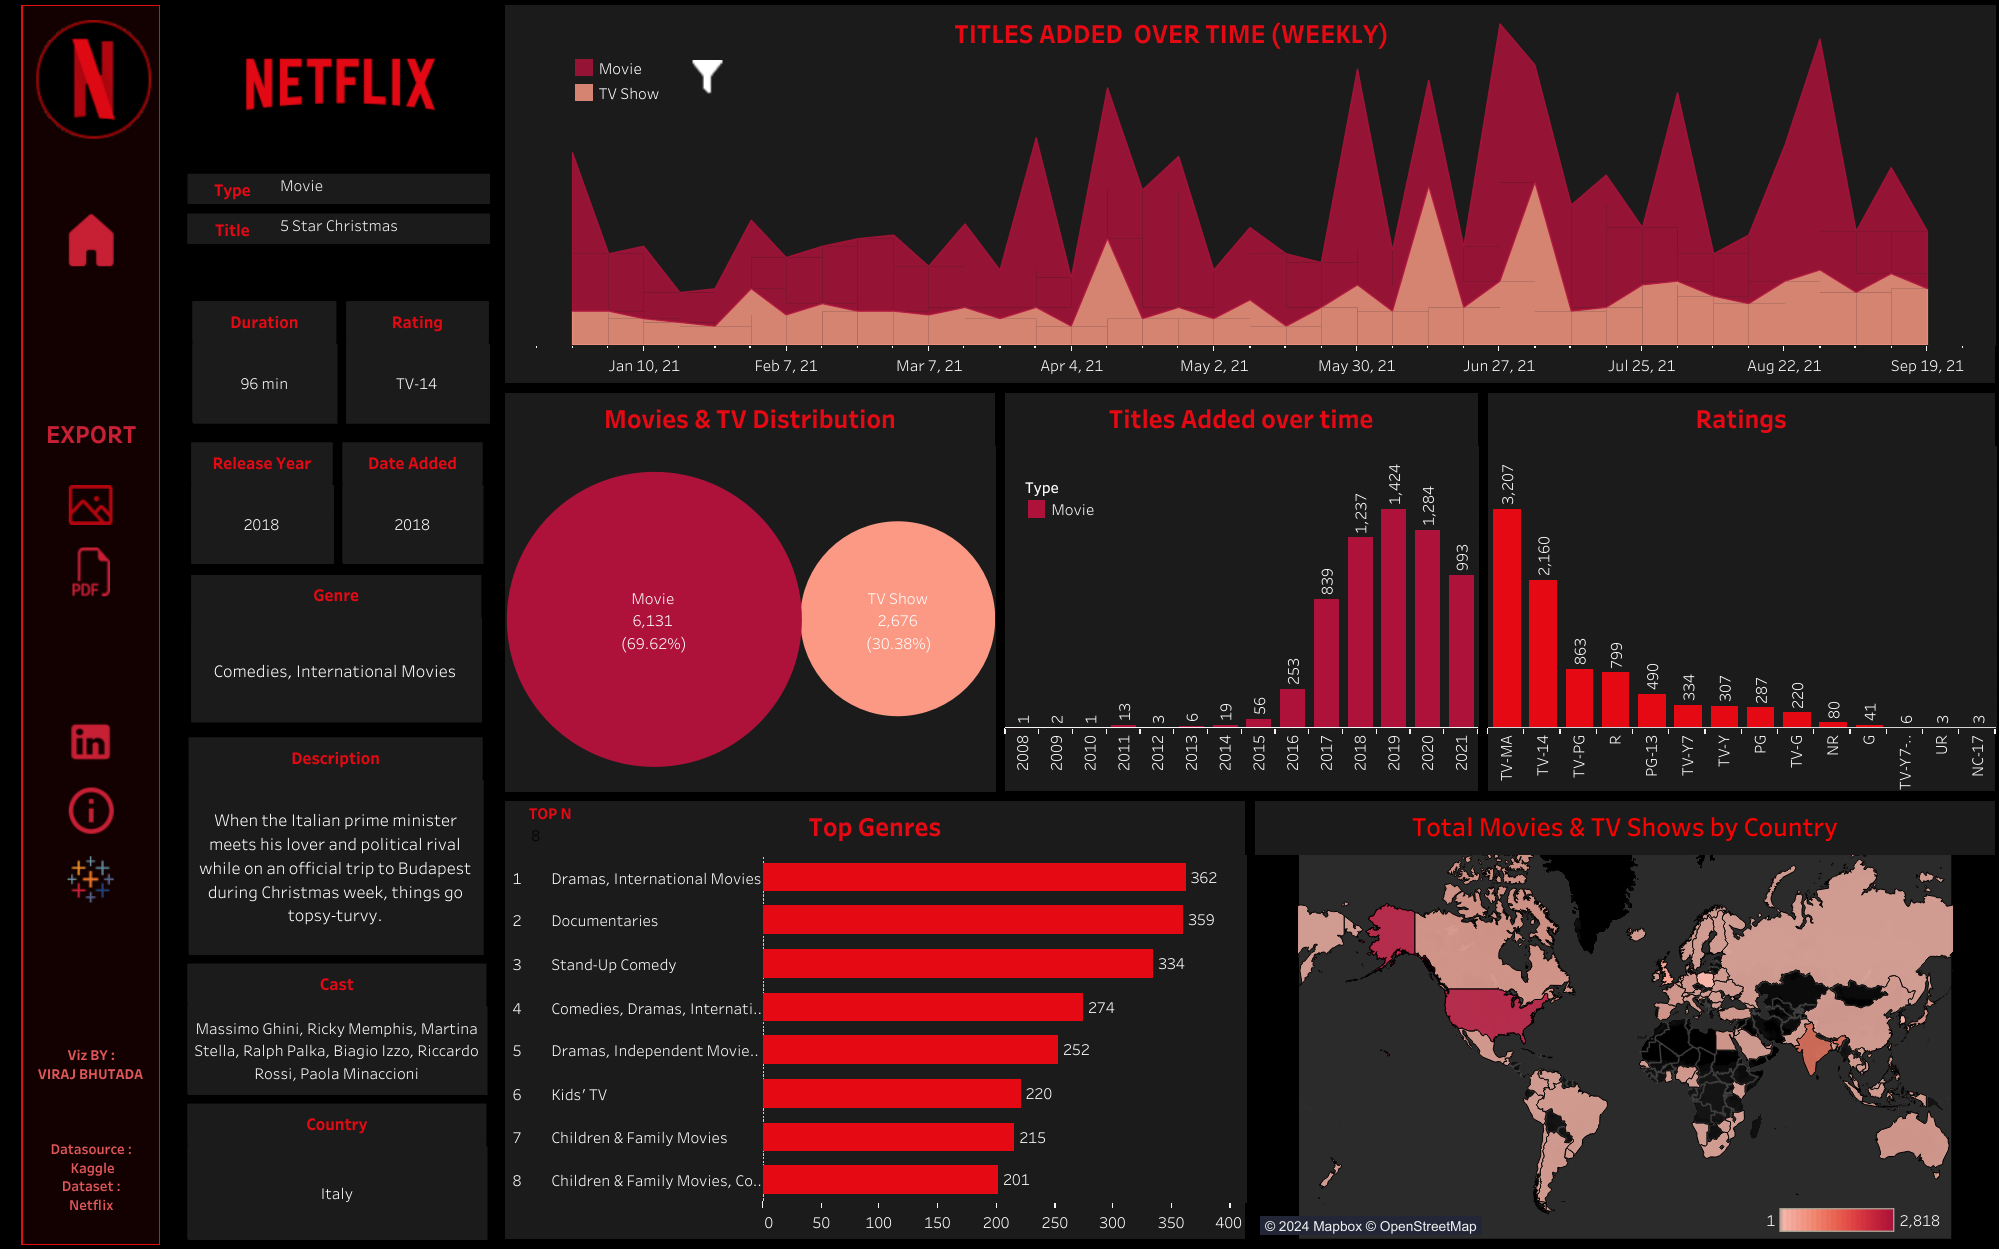

What the dashboard file says about the page in this screenshot:
{"tool":"tableau","page":{"name":"Netflix Dashboard","canvas":[1600,1000],"ordinal":0},"visuals":[{"type":"image","param":"Image/Name Suggestion (1).png","box":[0,0,146,1000]},{"type":"image","param":"Image/netflix_logo.png","box":[146,0,254,135]},{"type":"worksheet","title":"Titles Added over time (Weekly) (2)","mark":"Area","rows":["show_id"],"cols":["date_added"],"box":[400,0,1200,310]},{"type":"text","box":[707,9,460,33]},{"type":"image","param":"Image/logos_netflix-icon.png","box":[17.1,12,115.4,103]},{"type":"legend","title":"Titles Added over time (Weekly) (2)","param":"[federated.0muoluk07c36t11fwnnmb0r537fx].[none:type:nk]","box":[457,44,99,43]},{"type":"dashboard-object","box":[546,48,40,28]},{"type":"filter","title":"Titles Added over time (Weekly) (2)","param":"[federated.0muoluk07c36t11fwnnmb0r537fx].[yr:date_added:ok]","box":[475.4,87,116.6,40]},{"type":"filter","title":"Description","param":"[federated.0muoluk07c36t11fwnnmb0r537fx].[none:type:nk]","box":[146,135,254,32]},{"type":"dashboard-object","box":[16,167,114.3,50]},{"type":"filter","title":"Description","param":"[federated.0muoluk07c36t11fwnnmb0r537fx].[none:title:nk]","box":[146,167,254,32]},{"type":"blank","box":[146,199,254,253]},{"type":"blank","box":[16,217,114.3,90]},{"type":"worksheet","title":"Duration","mark":"Automatic","box":[150.4,236.7,122.1,105.6]},{"type":"worksheet","title":"Rating","mark":"Automatic","box":[272.5,236.7,122.1,105.6]},{"type":"text","box":[16,307,114.3,77]},{"type":"worksheet","title":"Movies & TV Distribution","mark":"Circle","box":[400,310,400,326.7]},{"type":"worksheet","title":"Titles Added over time","mark":"Bar","rows":["show_id"],"cols":["date_added"],"box":[800,310,386,326.7]},{"type":"worksheet","title":"Ratings","mark":"Automatic","rows":["show_id"],"cols":["rating"],"box":[1186,310,414,326.7]},{"type":"worksheet","title":"Release Year","mark":"Automatic","box":[149.3,350,120.5,104.4]},{"type":"worksheet","title":"Date Added","mark":"Automatic","box":[269.9,350,120.5,104.4]},{"type":"legend","title":"Titles Added over time","param":"[federated.0muoluk07c36t11fwnnmb0r537fx].[none:type:nk]","box":[819.4,378,158.9,44]},{"type":"dashboard-object","box":[16,384,114.3,40]},{"type":"blank","box":[16,424,114.3,10]},{"type":"dashboard-object","box":[16,434,114.3,47]},{"type":"blank","box":[146,452,254,548]},{"type":"worksheet","title":"Genre","mark":"Automatic","box":[149.3,455.6,240,125.6]},{"type":"blank","box":[16,481,114.3,90]},{"type":"image","param":"Image/linkedin (1).png","box":[16,571,114.3,45]},{"type":"worksheet","title":"Description","mark":"Automatic","box":[142.9,590,243.2,173.3]},{"type":"blank","box":[16,616,114.3,10]},{"type":"image","param":"Image/Vector (12).png","box":[16,626,114.3,45]},{"type":"worksheet","title":"Top N Genre","mark":"Bar","rows":["Calculation_740279221888200759","listed_in"],"cols":["show_id"],"box":[400,636.7,600,363.3]},{"type":"worksheet","title":"# No of Movies & TV Shows by country","mark":"Multipolygon","box":[1000,636.7,600,363.3]},{"type":"parameter","param":"[Parameters].[Parameter 1]","box":[423,640,79,53]},{"type":"blank","box":[16,671,114.3,10]},{"type":"image","param":"Image/logos_tableau-icon (1).png","box":[16,681,114.3,45]},{"type":"blank","box":[16,726,114.3,80]},{"type":"worksheet","title":"Cast","mark":"Automatic","box":[139.7,766.7,252.8,112.2]},{"type":"text","box":[16,806,114.3,90]},{"type":"worksheet","title":"Country","mark":"Automatic","box":[139.7,878.9,252.8,112.2]},{"type":"text","box":[16,896,114.3,90]},{"type":"legend","title":"# No of Movies & TV Shows by country","param":"[federated.0muoluk07c36t11fwnnmb0r537fx].[ctd:show_id:qk]","box":[1409,963,148,39]}]}

Visuals, with their boxes in screenshot pixels (x1, y1, x2, y2), scaled from the page's 1600x1000 canvas onto the 1999x1249 screenshot:
image: bbox=(0, 0, 182, 1248)
image: bbox=(182, 0, 500, 169)
"Titles Added over time (Weekly) (2)" worksheet (Area marks): bbox=(500, 0, 1998, 387)
text: bbox=(883, 11, 1458, 52)
image: bbox=(21, 15, 166, 144)
"Titles Added over time (Weekly) (2)" legend: bbox=(571, 55, 695, 109)
dashboard-object: bbox=(682, 60, 732, 95)
"Titles Added over time (Weekly) (2)" filter: bbox=(594, 109, 740, 159)
"Description" filter: bbox=(182, 169, 500, 209)
dashboard-object: bbox=(20, 209, 163, 271)
"Description" filter: bbox=(182, 209, 500, 249)
blank: bbox=(182, 249, 500, 565)
blank: bbox=(20, 271, 163, 383)
"Duration" worksheet: bbox=(188, 296, 340, 428)
"Rating" worksheet: bbox=(340, 296, 493, 428)
text: bbox=(20, 383, 163, 480)
"Movies & TV Distribution" worksheet (Circle marks): bbox=(500, 387, 999, 795)
"Titles Added over time" worksheet (Bar marks): bbox=(999, 387, 1482, 795)
"Ratings" worksheet: bbox=(1482, 387, 1998, 795)
"Release Year" worksheet: bbox=(187, 437, 337, 568)
"Date Added" worksheet: bbox=(337, 437, 488, 568)
"Titles Added over time" legend: bbox=(1024, 472, 1222, 527)
dashboard-object: bbox=(20, 480, 163, 530)
blank: bbox=(20, 530, 163, 542)
dashboard-object: bbox=(20, 542, 163, 601)
blank: bbox=(182, 565, 500, 1248)
"Genre" worksheet: bbox=(187, 569, 486, 726)
blank: bbox=(20, 601, 163, 713)
image: bbox=(20, 713, 163, 769)
"Description" worksheet: bbox=(179, 737, 482, 953)
blank: bbox=(20, 769, 163, 782)
image: bbox=(20, 782, 163, 838)
"Top N Genre" worksheet (Bar marks): bbox=(500, 795, 1249, 1248)
"# No of Movies & TV Shows by country" worksheet (Multipolygon marks): bbox=(1249, 795, 1998, 1248)
parameter: bbox=(528, 799, 627, 866)
blank: bbox=(20, 838, 163, 851)
image: bbox=(20, 851, 163, 907)
blank: bbox=(20, 907, 163, 1007)
"Cast" worksheet: bbox=(175, 958, 490, 1098)
text: bbox=(20, 1007, 163, 1119)
"Country" worksheet: bbox=(175, 1098, 490, 1238)
text: bbox=(20, 1119, 163, 1232)
"# No of Movies & TV Shows by country" legend: bbox=(1760, 1203, 1945, 1248)
